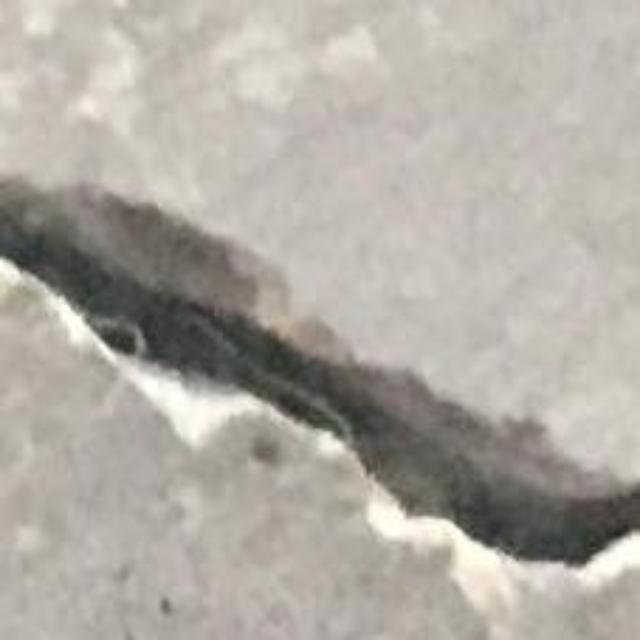crack: (0, 178, 639, 563)
